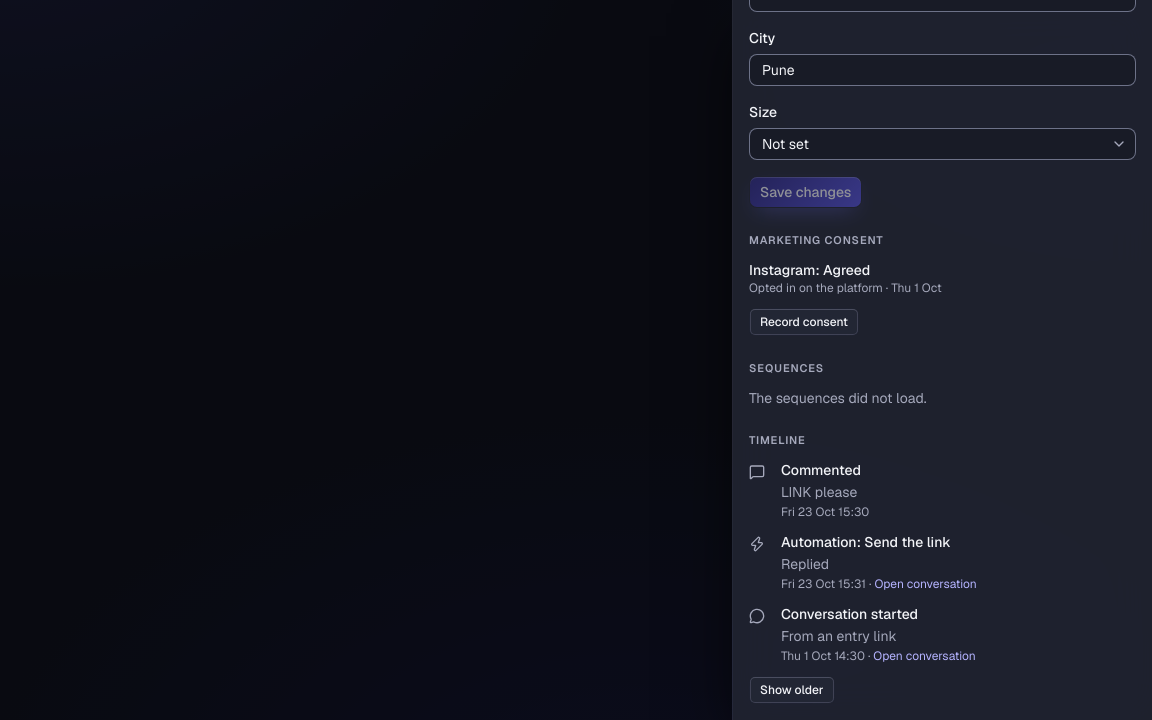
Test: ContactDrawer (GR-17) › pages the timeline
(page scrolled)
Click the button "Show older" at (792, 690), box [749,676,834,704]
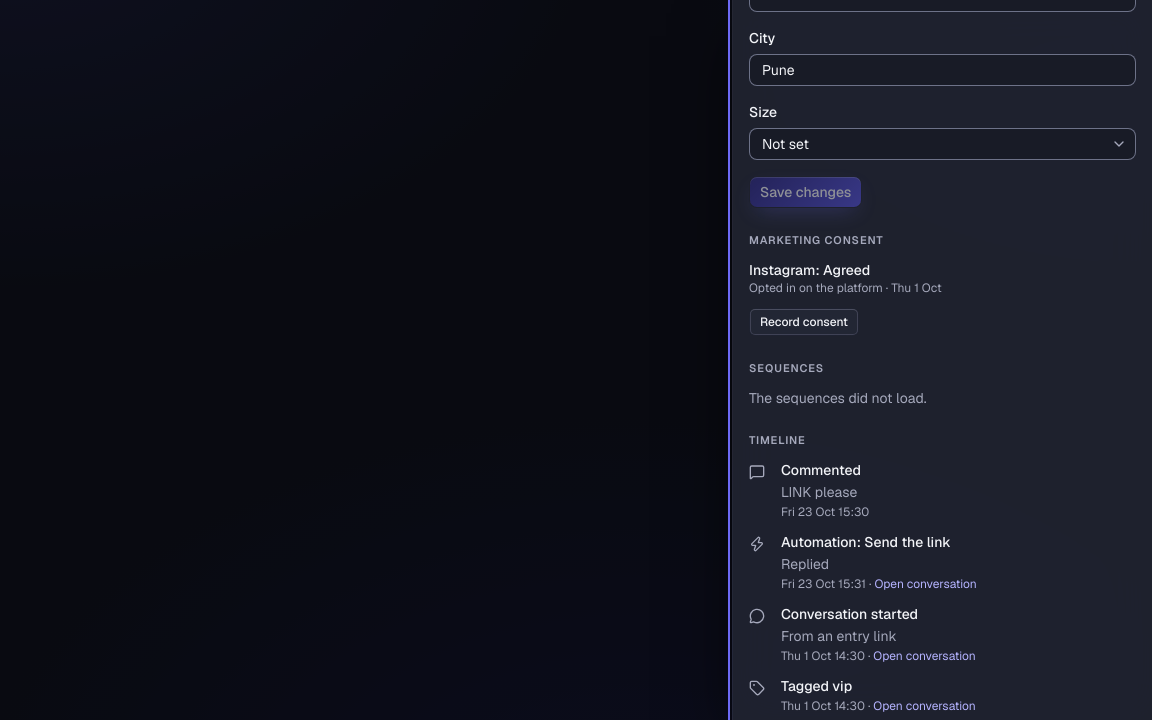
Expected: the number of list items with test id "timeline-item" is 4, [749,461,869,520]; [749,533,977,592]; [749,605,976,664]; [749,677,976,714]
Expected: the text "Tagged vip" is shown, [781,677,852,695]
